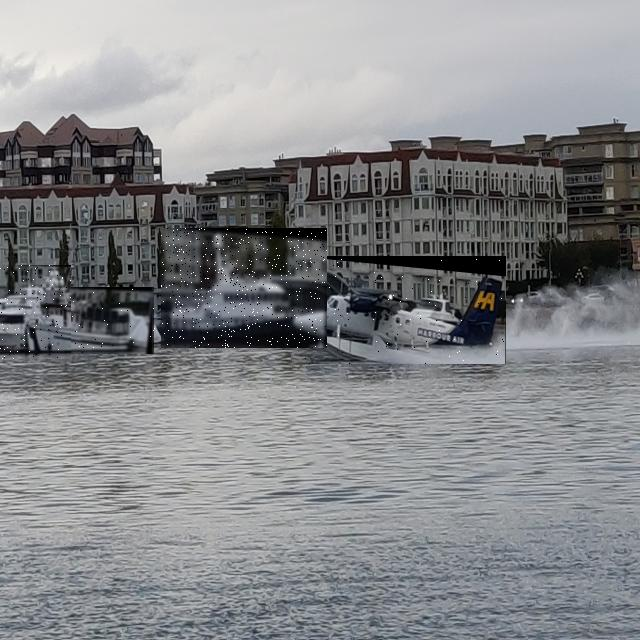aircraft: (293, 256, 506, 364)
boat: (161, 228, 327, 348), (26, 287, 156, 354), (0, 265, 71, 359)
